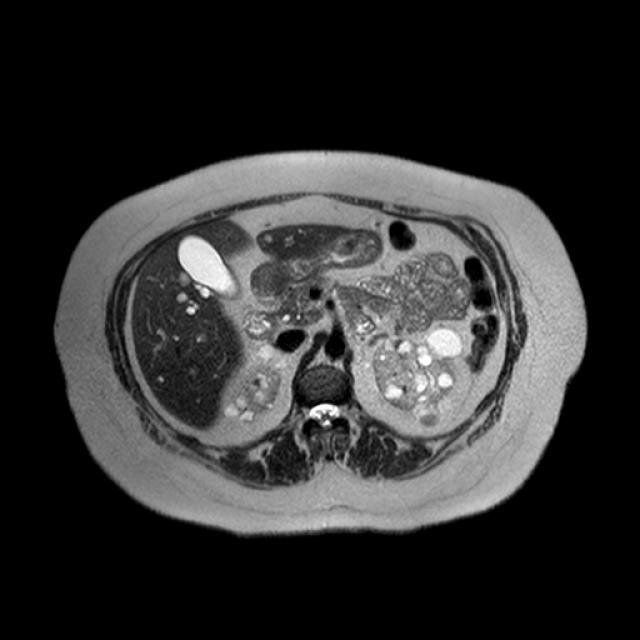sag: (223, 364, 281, 425)
sol: (367, 327, 462, 427)
